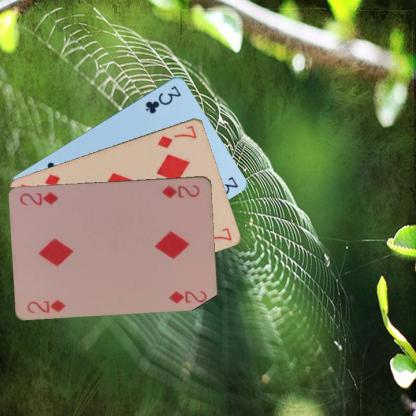2d: (25, 296, 67, 314), (160, 182, 201, 199)
3c: (142, 83, 182, 115)
7d: (155, 123, 198, 149)
